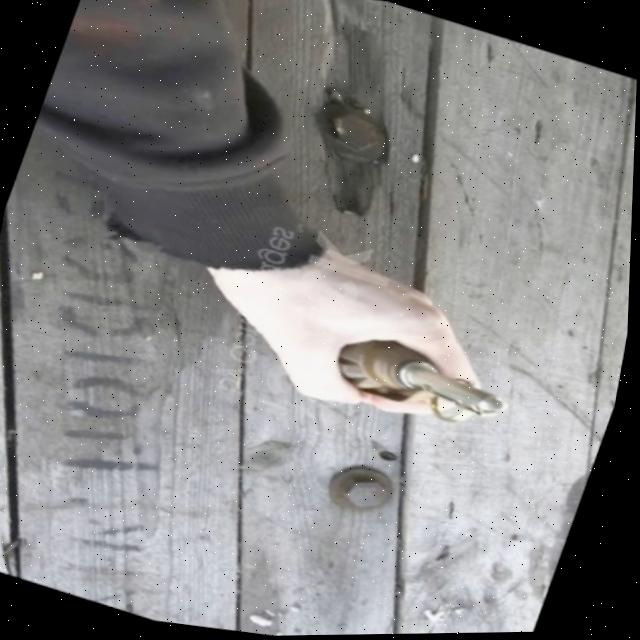grenade: (326, 325, 529, 442)
